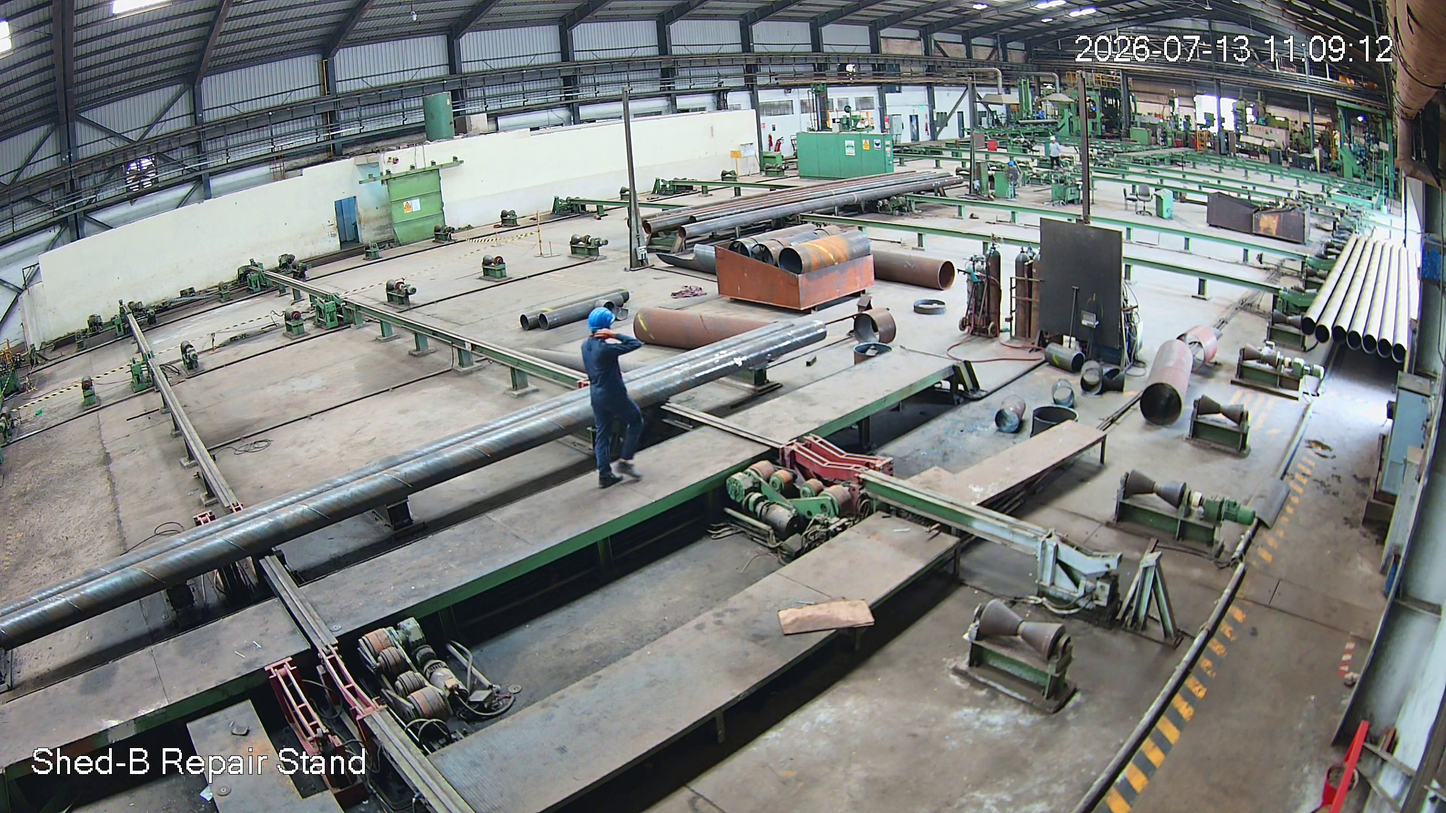Helmet: (585, 303, 618, 344)
Person: (577, 307, 642, 489)
